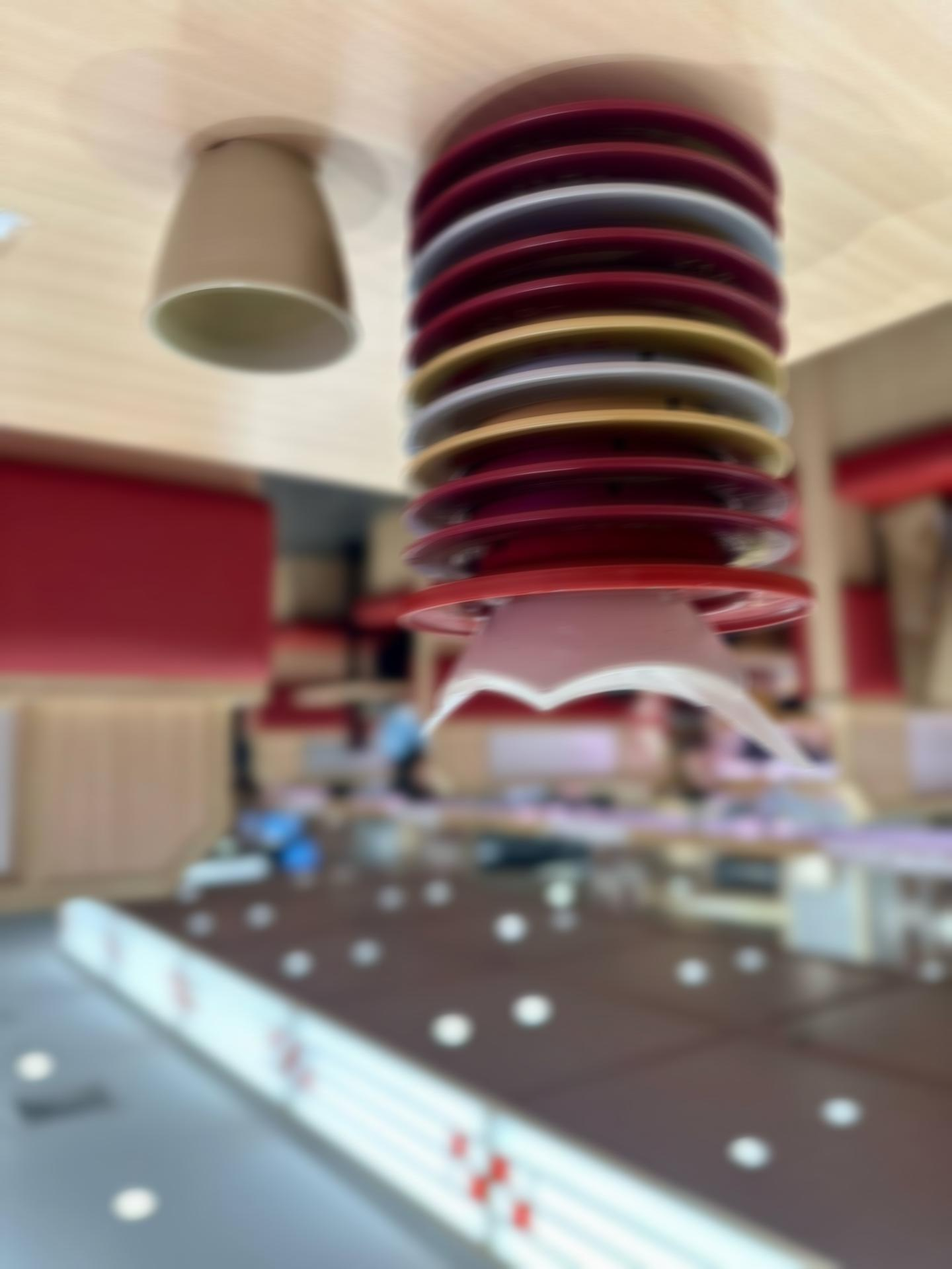Jangold: (498, 313, 793, 352), (507, 410, 758, 443)
Janred: (422, 568, 809, 614), (436, 505, 795, 546), (464, 454, 761, 486), (515, 104, 782, 139), (484, 278, 767, 309), (505, 152, 757, 182), (498, 243, 747, 271)
Janwhite: (493, 364, 775, 399), (501, 189, 753, 226)
